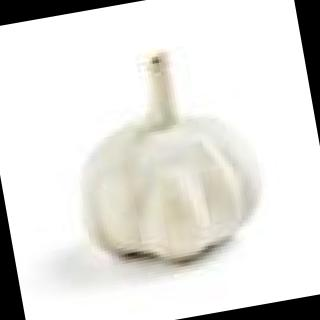Bawang Putih: (48, 36, 281, 285)
